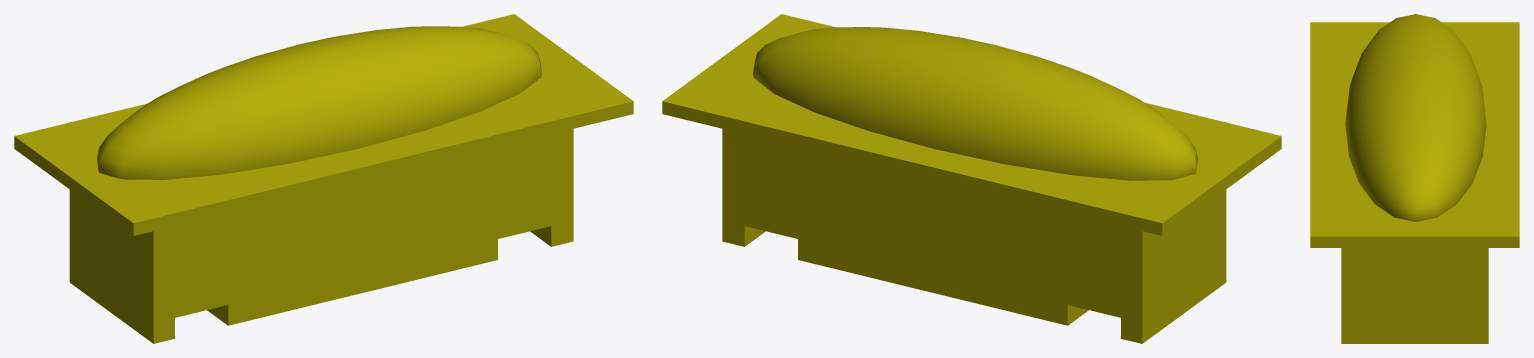
File: MK_SNOWBOX.fbx
The picture shows the model from 3 angles, left to right: view 1: azimuth 30°, elevation 25°; view 2: azimuth 150°, elevation 25°; view 3: azimuth 270°, elevation 25°; orthographic projection. The views are drawn at different scales.
Visible parts, largest first — view 1: polySurface1, pSphere1, pasted__pCube2; view 2: polySurface1, pSphere1, pasted__pCube2; view 3: pasted__pCube2, pSphere1, polySurface1.
Part boxes in pixels (box(x1,y1,x2,y2)): polySurface1: box(69, 129, 573, 343); pSphere1: box(96, 26, 541, 179); pasted__pCube2: box(14, 14, 633, 235); polySurface1: box(722, 129, 1226, 343); pSphere1: box(753, 27, 1198, 180); pasted__pCube2: box(662, 14, 1281, 235); pasted__pCube2: box(1310, 22, 1519, 247); pSphere1: box(1345, 14, 1486, 221); polySurface1: box(1341, 248, 1488, 343).
Bounding box in the file's own units: 7.97 × 3.23 × 3.29.
